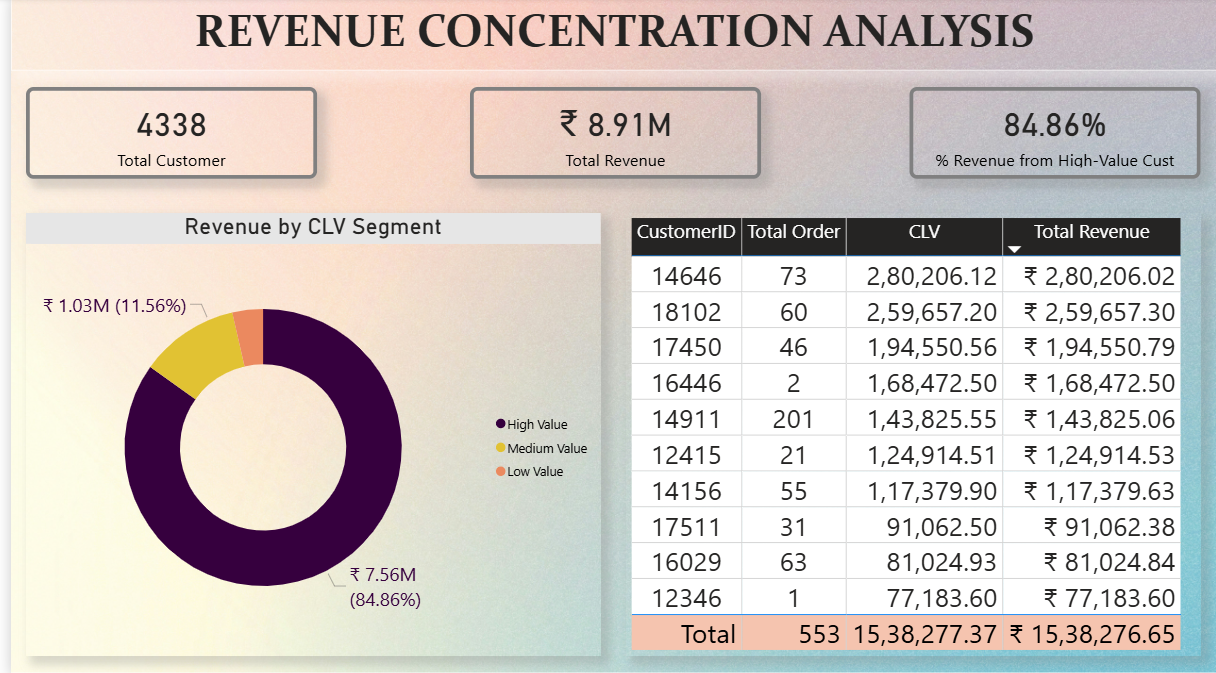

This screenshot's page, from the dashboard's own definition file:
{"tool":"powerbi","page":{"name":"Revenue Analysis","canvas":[1280,720],"ordinal":2},"visuals":[{"type":"textbox","box":[0,0,1280.4,77.9],"z":0},{"type":"card","fields":{"Values":["CountNonNull(customer_clv.CustomerID)"]},"box":[15.9,95.4,308.6,97],"z":1000},{"type":"card","fields":{"Values":["Sum(customer_clv.TotalRevenue)"]},"box":[486.7,95.4,308.6,97],"z":2000},{"type":"card","fields":{"Values":["customer_clv.RevenueShare_HighValue"]},"box":[952.8,95.4,308.6,97],"z":3000},{"type":"donutChart","title":"Revenue by CLV Segment","fields":{"Category":["customer_clv.CLV_Segment"],"Y":["Sum(customer_clv.TotalRevenue)"]},"box":[15.9,229,609.2,469.2],"z":4000},{"type":"tableEx","fields":{"Values":["customer_clv.CustomerID","Sum(customer_clv.TotalOrder)","Sum(customer_clv.CLV)","Sum(customer_clv.TotalRevenue)"]},"box":[652.2,229,609.2,469.2],"z":5000}]}

Visuals, with their boxes in screenshot pixels (x1, y1, x2, y2), scaled from the page's 1280x720 canvas onto the 1216x673 screenshot:
textbox: {"x1": 0, "y1": 0, "x2": 1215, "y2": 73}
card - CountNonNull(customer_clv.CustomerID): {"x1": 15, "y1": 89, "x2": 308, "y2": 180}
card - Sum(customer_clv.TotalRevenue): {"x1": 462, "y1": 89, "x2": 756, "y2": 180}
card - customer_clv.RevenueShare_HighValue: {"x1": 905, "y1": 89, "x2": 1198, "y2": 180}
"Revenue by CLV Segment" donutChart: {"x1": 15, "y1": 214, "x2": 594, "y2": 653}
tableEx - customer_clv.CustomerID x Sum(customer_clv.TotalOrder): {"x1": 620, "y1": 214, "x2": 1198, "y2": 653}
